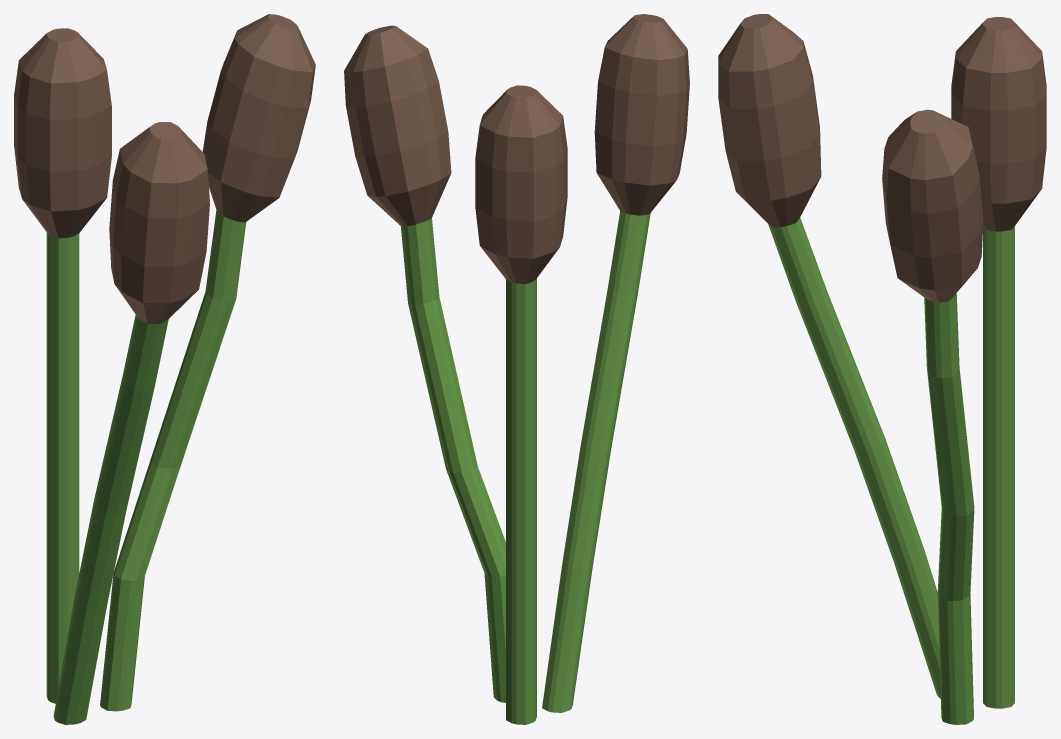
File: Grass1.3.fbx
3 renders of one model, left to right at view 1: azimuth 30°, elevation 25°; view 2: azimuth 150°, elevation 25°; view 3: azimuth 270°, elevation 25°, orthographic. The views are drawn at different scales.
Parts seen in each view (by area): view 1: Grass1.3; view 2: Grass1.3; view 3: Grass1.3.
Part boxes in pixels (x1,y1,x2,y2): Grass1.3: (14,14,315,724); Grass1.3: (344,14,689,724); Grass1.3: (718,14,1046,724).
Bounding box in the file's own units: 85.47 × 201 × 88.2.
